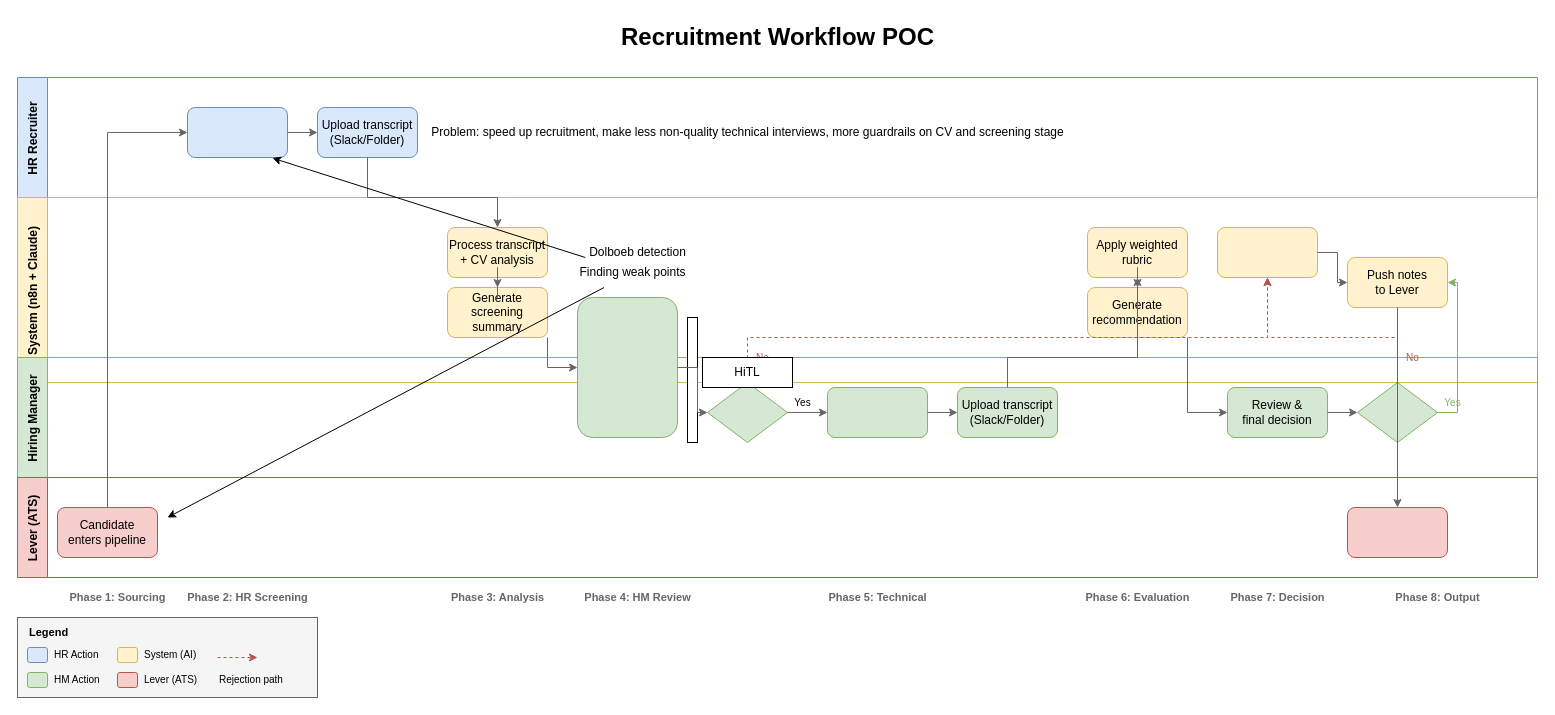
Image size: 1555x715. Some labels were removed from this diagram. Here are the shapes that lost their labels. From the top down, the centre of each, then its label:
[237,132]: Conduct screening call
[1267,252]: Generate rejection feedback
[627,367]: Review candidate + AI summary
[747,412]: Proceed?
[877,412]: Conduct technical interview
[1397,412]: Hire?
[1397,532]: Update candidate profile
